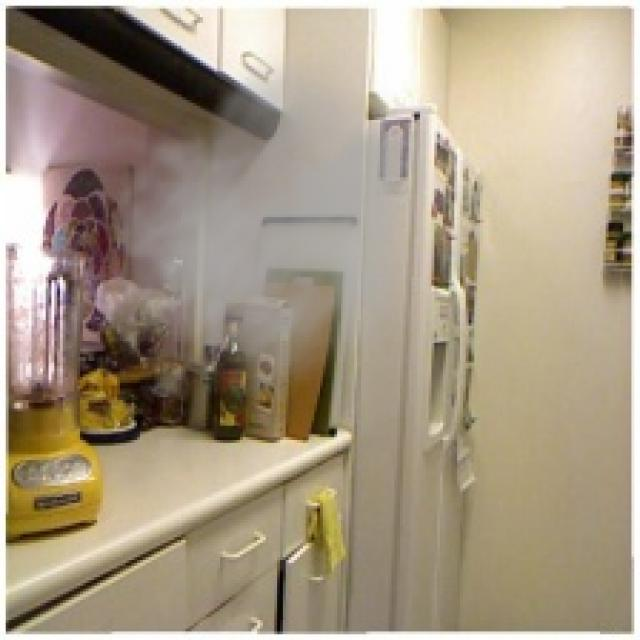smoke: (74, 40, 426, 414)
